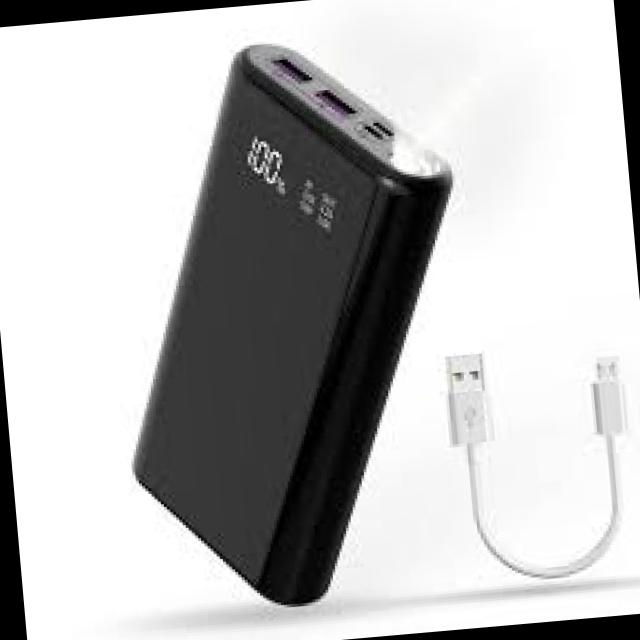power_bank: (88, 17, 494, 620)
